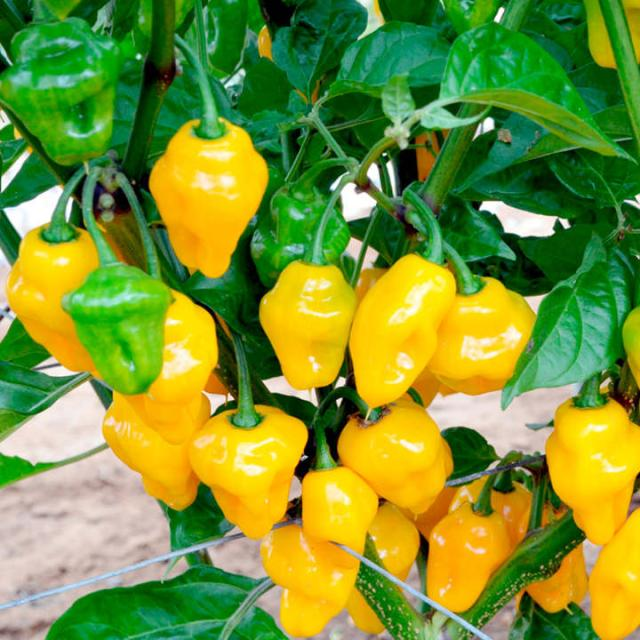Chilli Pepper: (146, 76, 270, 278), (0, 0, 123, 183), (7, 213, 125, 402), (251, 222, 357, 427), (345, 245, 466, 423), (67, 231, 186, 404), (196, 379, 314, 549), (422, 247, 548, 402), (412, 471, 518, 606), (549, 378, 631, 546), (290, 446, 391, 578), (331, 391, 441, 512)
